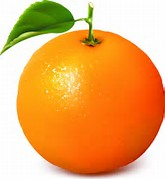orange: (10, 10, 165, 175)
